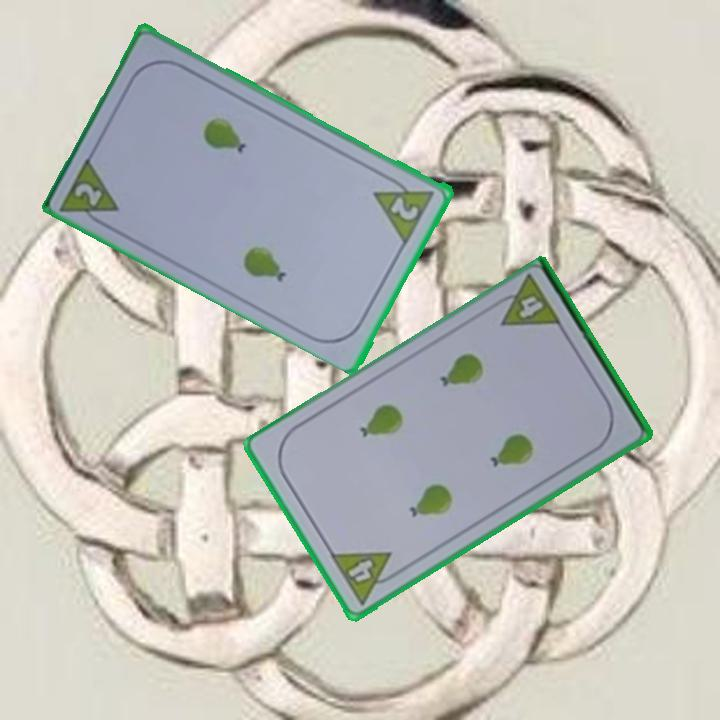2p: (57, 152, 124, 233), (387, 193, 423, 224)
4p: (326, 548, 405, 608), (488, 272, 565, 331)
